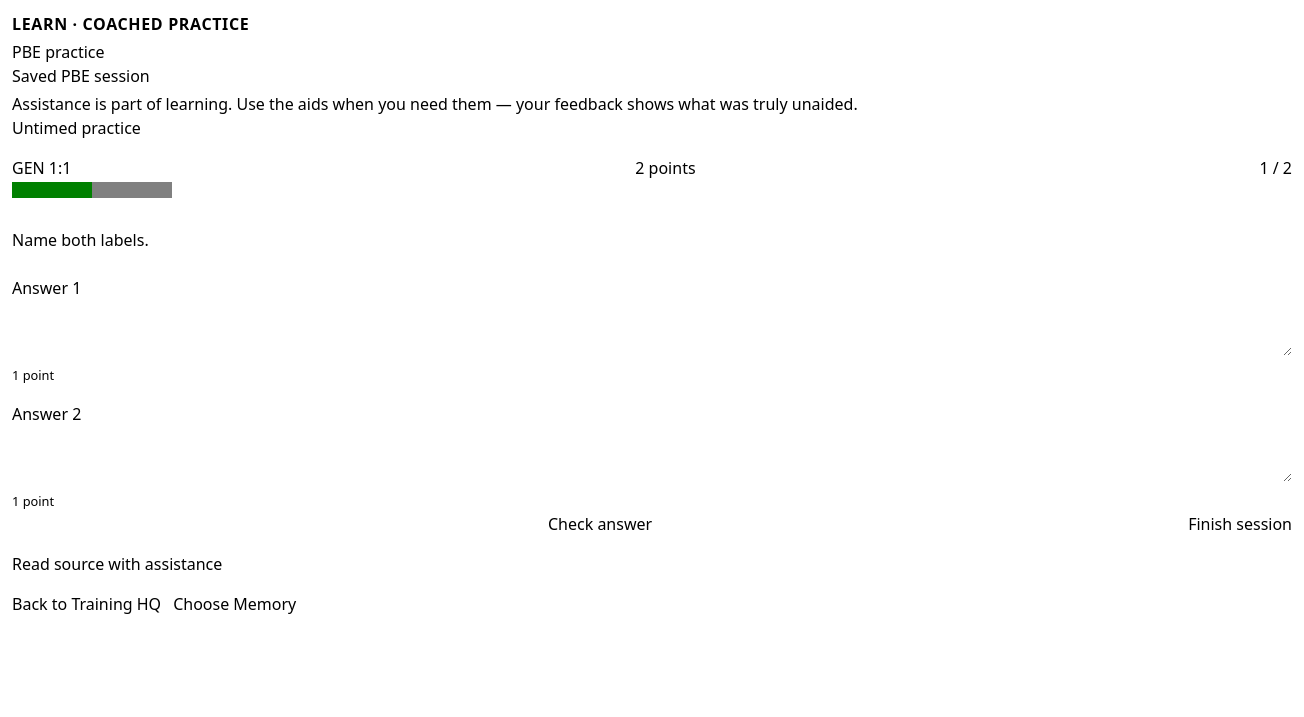
Test case: uses the saved PBE format despite a Memory URL and preserves server-recorded aid and partial feedback
Expected: the text "Alpha" is not shown
Type "Alpha" into the text box labelled "Answer 1" at (652, 332), box [12,308,1292,356]
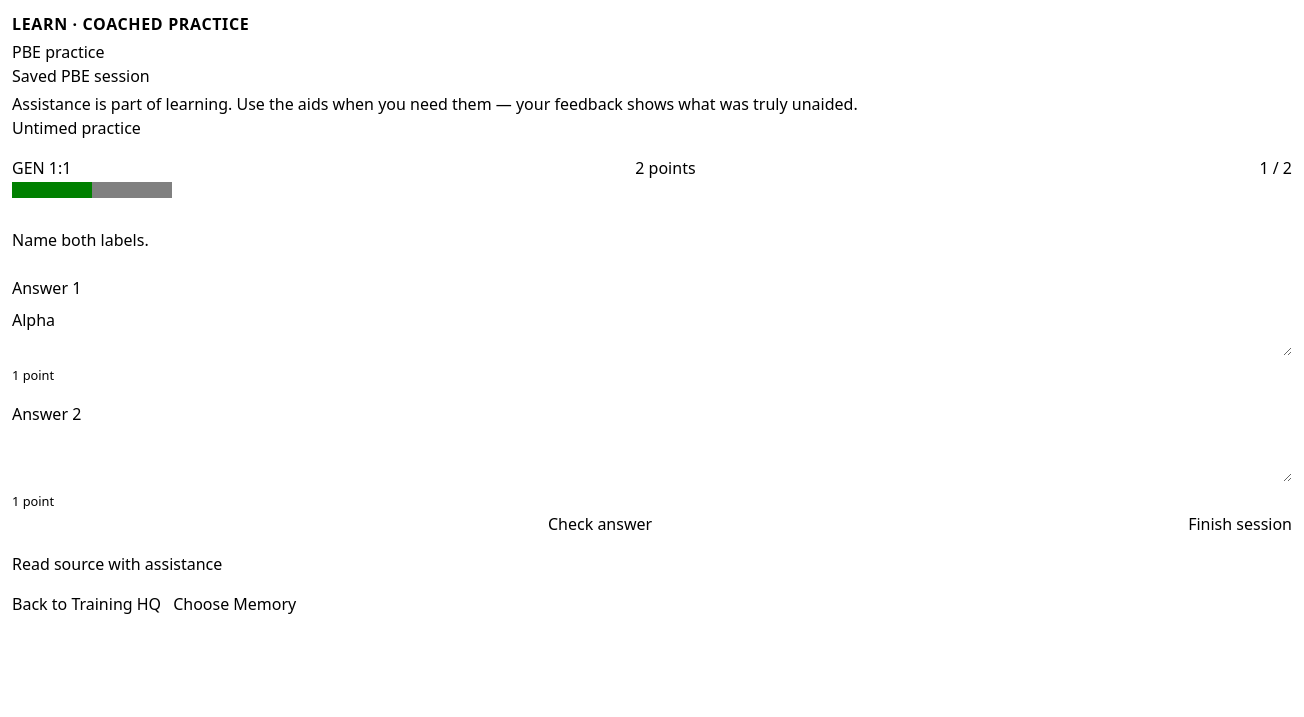
Click the button "Read source with assistance" at (117, 564), box [12,552,222,576]
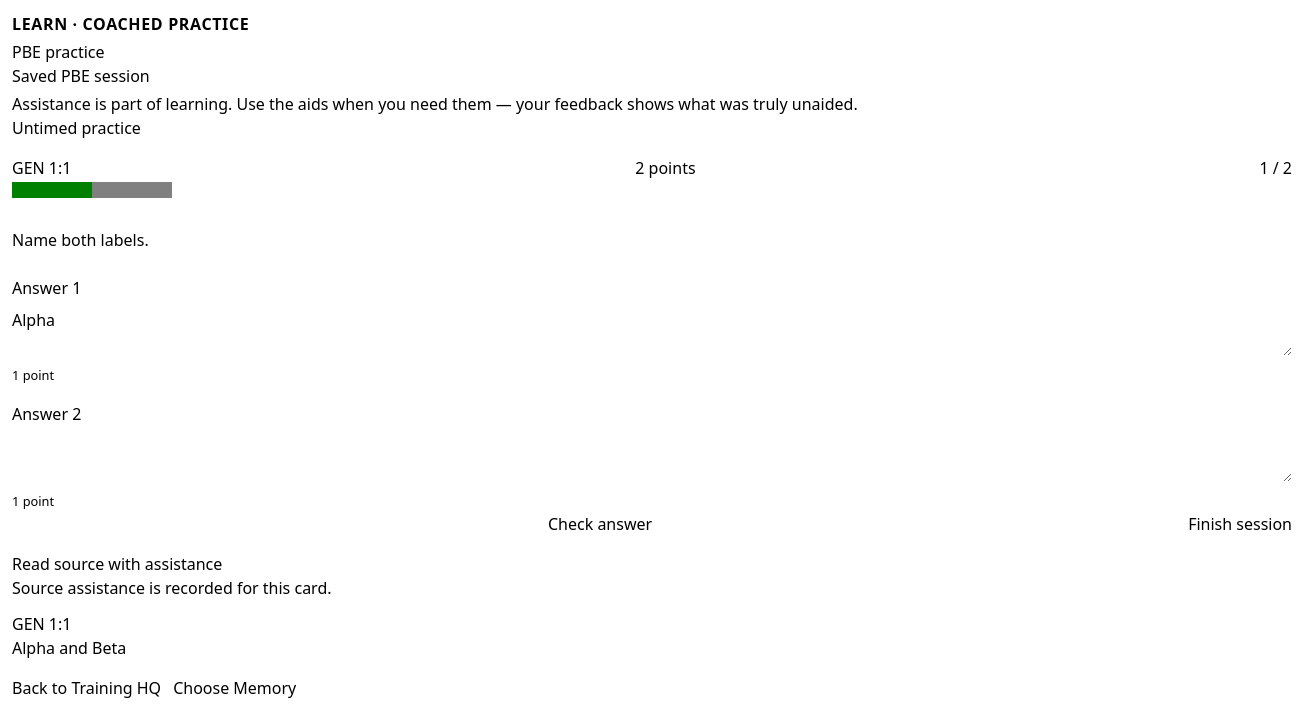
Expected: the text "Source assistance is recorded for this card." is shown, [12,577,332,599]
Click the button "Check answer" at (600, 524), box [12,512,1188,536]
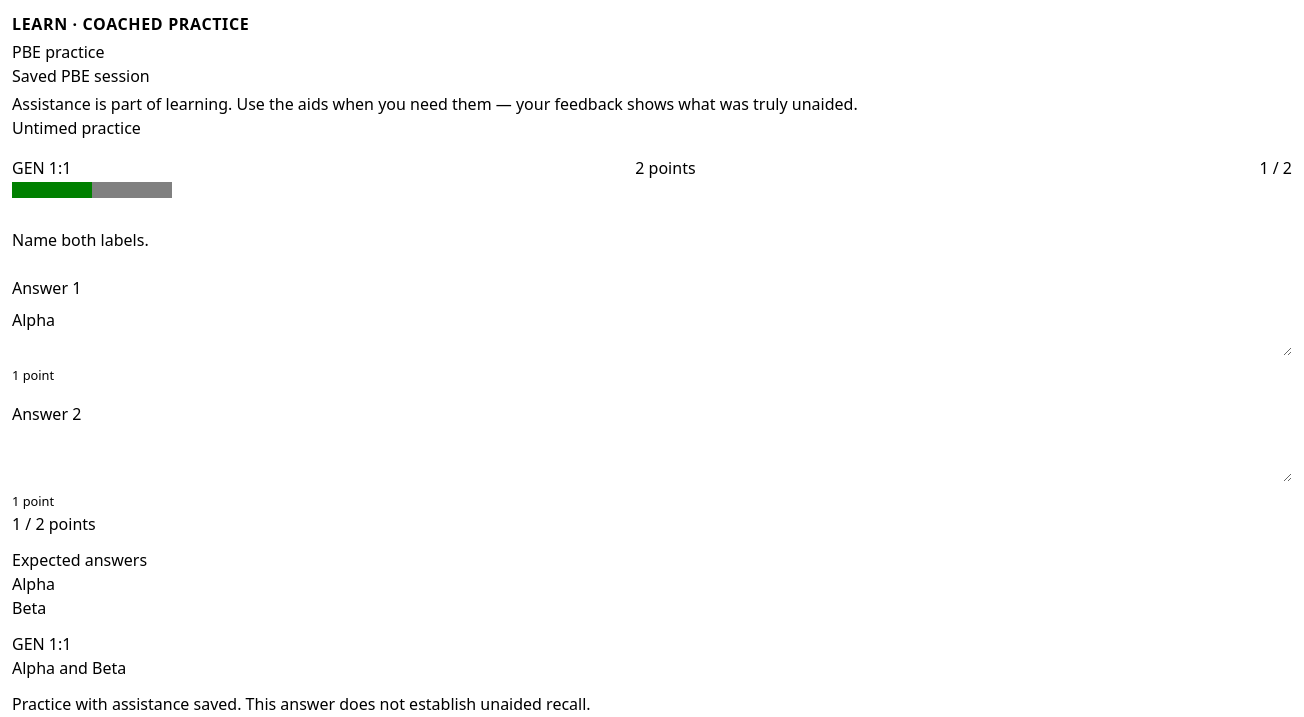
Expected: the text with test id "feedback-source" reads "Alpha and Beta", [12,657,126,679]
Expected: the text "1 / 2 points" is shown, [12,513,96,535]
